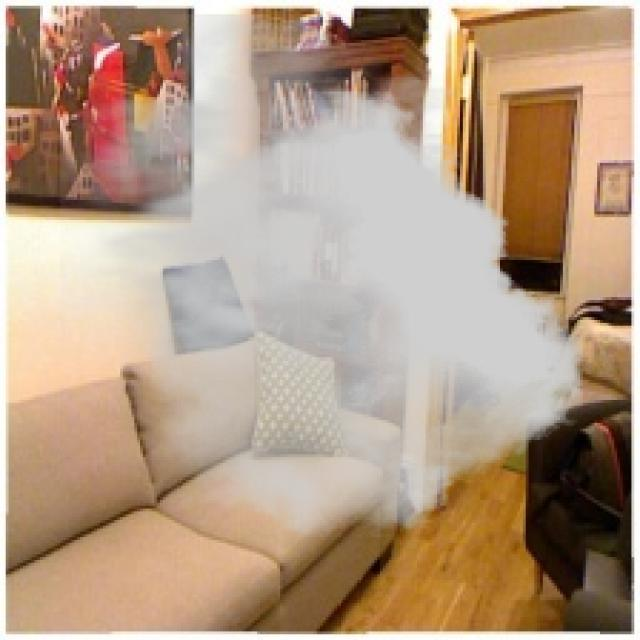smoke: (60, 14, 583, 537)
